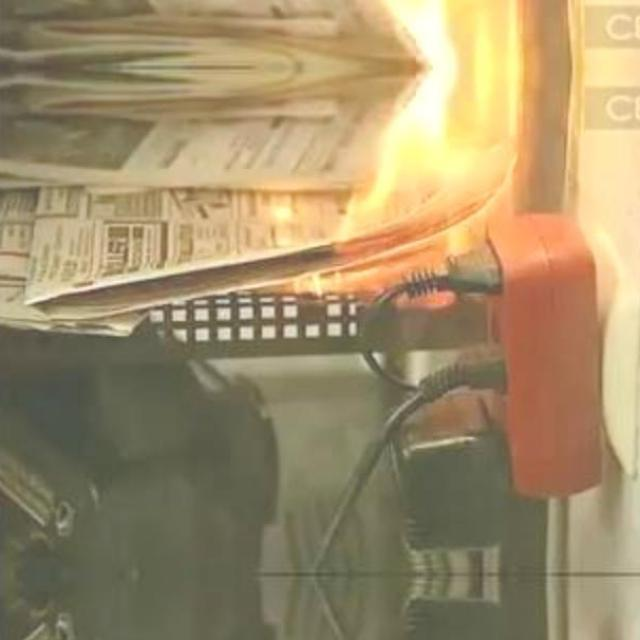smoke: (270, 68, 541, 298), (270, 0, 541, 68)
